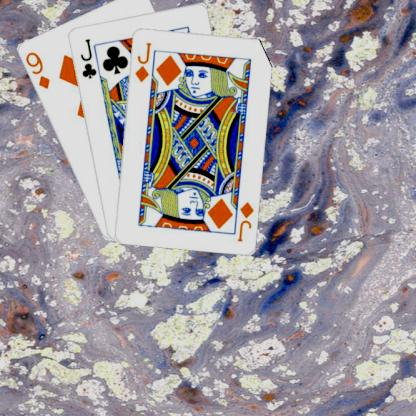9D: (22, 48, 51, 90)
JC: (77, 36, 97, 80)
JD: (234, 199, 255, 242), (132, 39, 152, 84)
